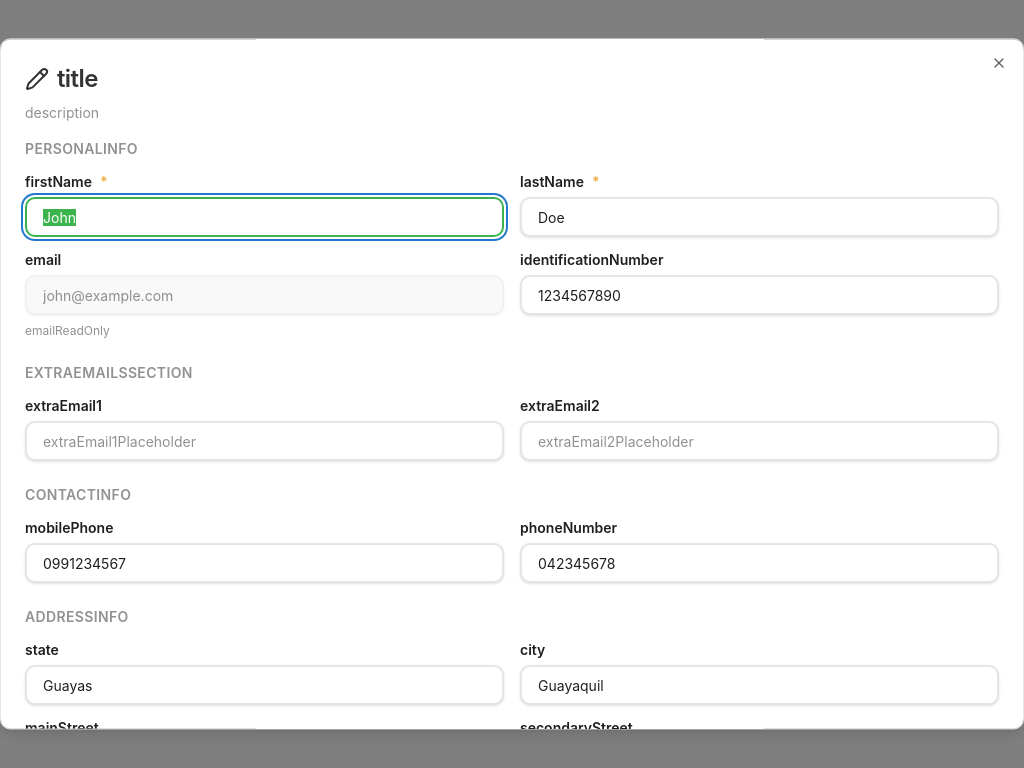
Scenario: EditClientDialog › validates firstName is required when cleared
The image size is (1024, 768).
Clear the field labelled "firstName *" at (264,217), box [25,197,504,237]
(page scrolled)
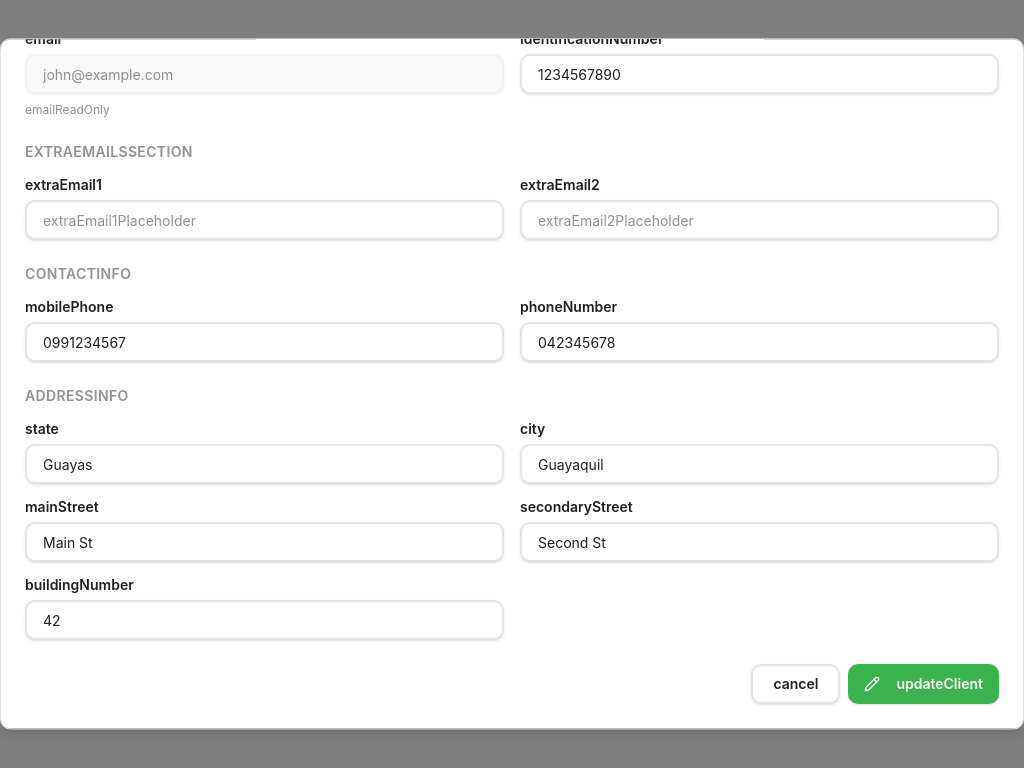
Click the button "updateClient".
click(924, 684)  # box [848,664,999,704]
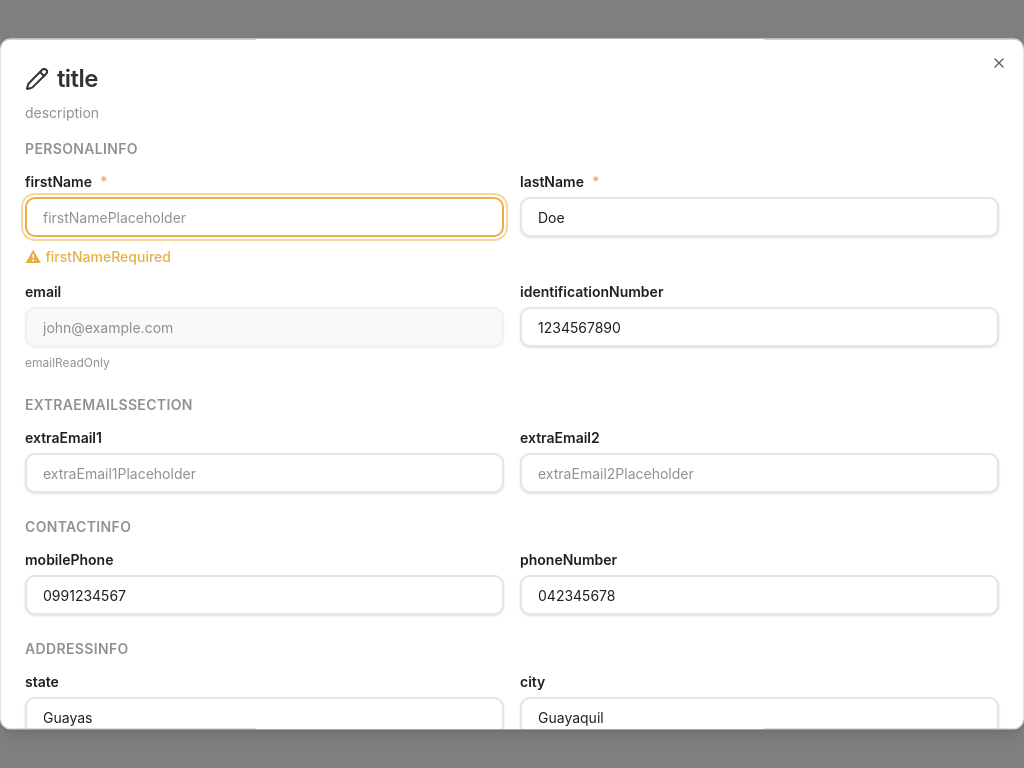
Expected: the text "firstNameRequired" is shown, [45,248,171,265]
